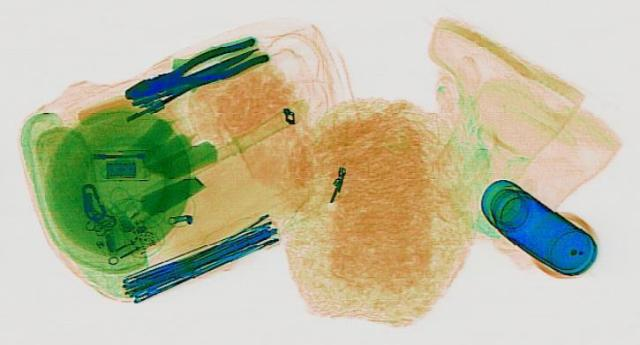Pliers: (107, 35, 281, 107)
